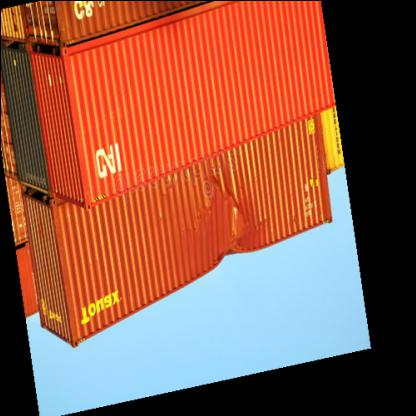Damage: (180, 190, 264, 266)
